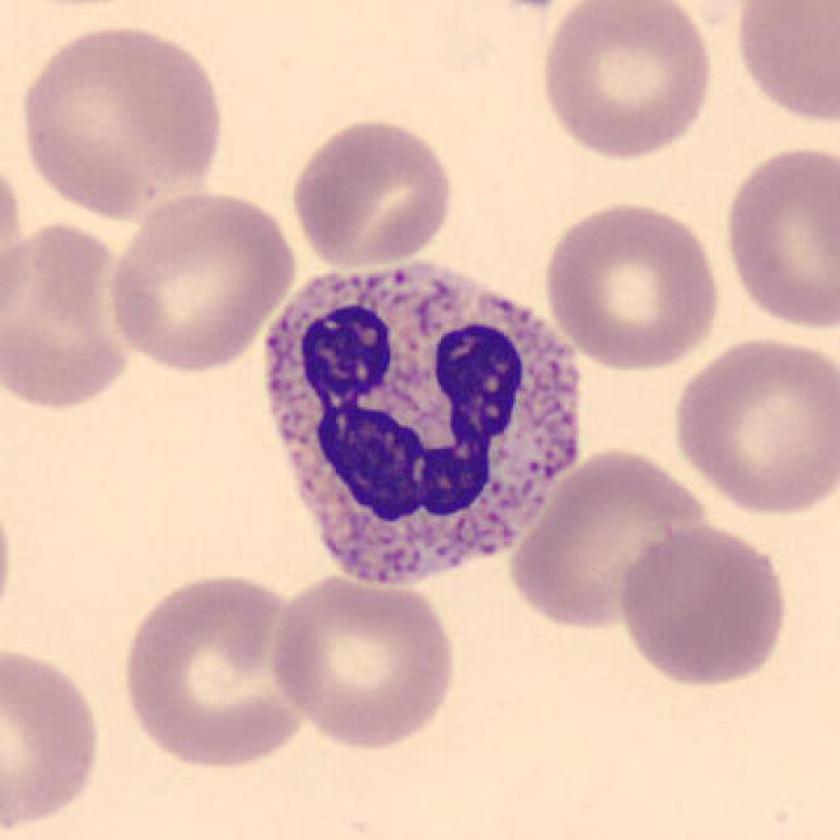neutrophil: (263, 261, 580, 585)
